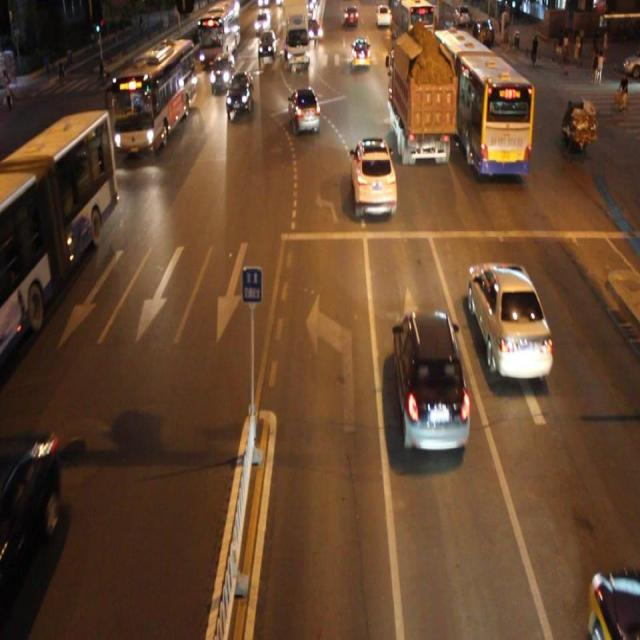bus: (388, 37, 452, 163)
car: (0, 425, 60, 613), (394, 309, 469, 452), (468, 261, 552, 378), (350, 137, 396, 220), (288, 86, 320, 134), (225, 71, 253, 116), (209, 50, 234, 93)
van: (1, 112, 117, 363), (433, 29, 532, 176), (106, 39, 192, 155)
